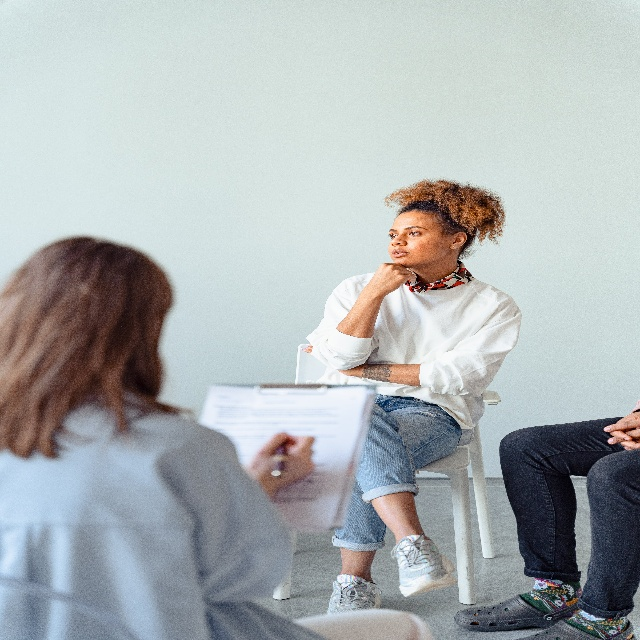Sin_guantes: (249, 432, 314, 494), (371, 262, 416, 296), (610, 412, 640, 450), (603, 417, 640, 445)
